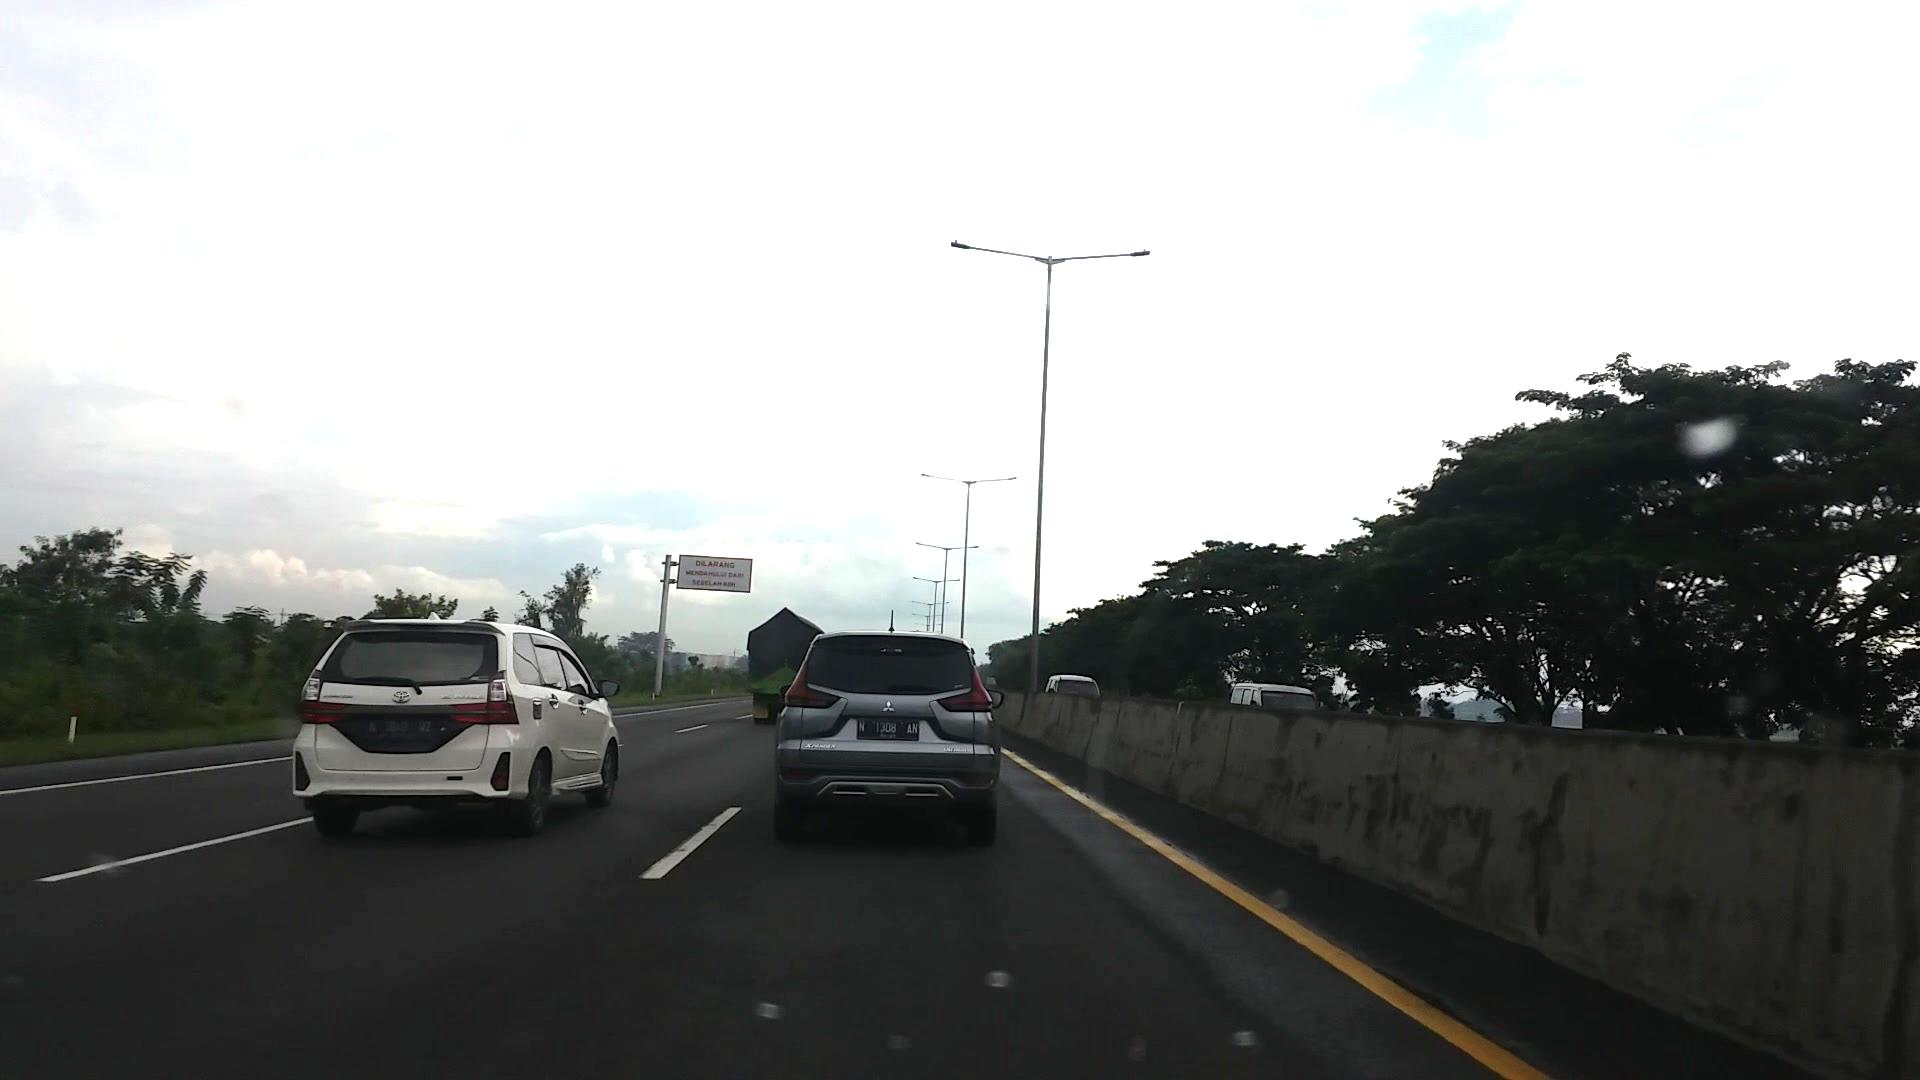plate_positive: (855, 717, 919, 740)
